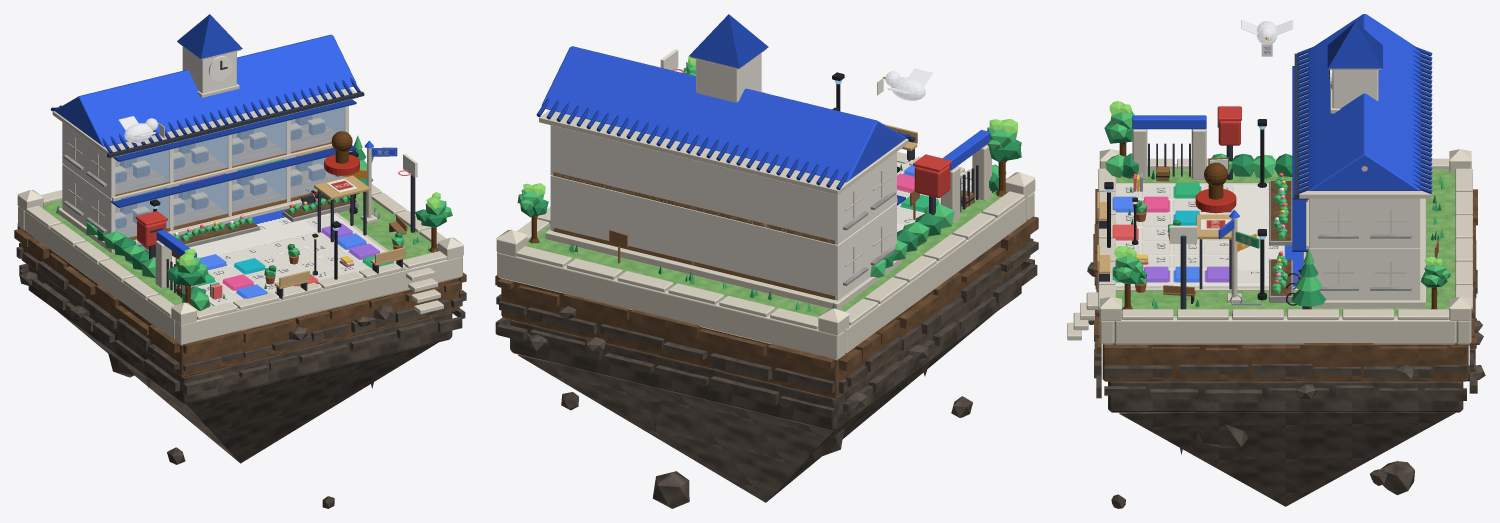
The model's file is hcrs.glb.
The picture shows the model from 3 angles, left to right: view 1: azimuth 30°, elevation 25°; view 2: azimuth 150°, elevation 25°; view 3: azimuth 270°, elevation 25°; orthographic projection. The views are drawn at different scales.
Visible parts, largest first — view 1: school_rock, school_wall_trim, school_roof, school_glass.001, school_soil, school_wall, school_calendar, school_roof_dark, school_chair, school_floor_wood, school_lawn, school_leaf (+8 smaller); view 2: school_rock, school_wall, school_wall_trim, school_roof, school_soil, school_roof_dark, school_lawn, school_floor_wood, school_leaf, school_leaf_dark, pigeon_pigeon, school_post_red (+5 smaller); view 3: school_rock, school_wall_trim, school_roof, school_soil, school_wall, school_calendar, school_roof_dark, school_lawn, school_leaf, school_leaf_dark, school_chair, props_props_palette (+8 smaller).
Boxes of the visible parts, x1,y1,x2,y2 form: school_rock: (16, 242, 466, 508); school_wall_trim: (17, 43, 463, 345); school_roof: (55, 34, 373, 257); school_glass.001: (115, 107, 344, 237); school_soil: (14, 196, 466, 377); school_wall: (62, 46, 417, 233); school_calendar: (137, 202, 404, 307); school_roof_dark: (50, 14, 360, 207); school_chair: (107, 60, 415, 299); school_floor_wood: (115, 116, 336, 239); school_lawn: (42, 192, 437, 305); school_leaf: (86, 135, 452, 310); school_rock: (495, 238, 1038, 508); school_wall: (550, 49, 896, 300); school_wall_trim: (496, 49, 1035, 360); school_roof: (541, 46, 990, 182); school_soil: (495, 216, 1038, 399); school_roof_dark: (536, 14, 910, 205); school_lawn: (527, 191, 1001, 317); school_floor_wood: (553, 172, 834, 299); school_leaf: (517, 62, 1017, 312); school_leaf_dark: (520, 140, 1021, 308); pigeon_pigeon: (885, 68, 932, 100); school_post_red: (914, 165, 950, 197); school_rock: (1087, 234, 1485, 508); school_wall_trim: (1067, 57, 1472, 344); school_roof: (1132, 14, 1420, 289); school_soil: (1094, 181, 1477, 381); school_wall: (1169, 70, 1420, 300); school_calendar: (1105, 184, 1303, 287); school_roof_dark: (1292, 22, 1432, 251); school_lawn: (1116, 167, 1455, 316); school_leaf: (1105, 111, 1450, 309); school_leaf_dark: (1104, 121, 1447, 307); school_chair: (1099, 53, 1329, 309); props_props_palette: (1132, 157, 1441, 305).
Bounding box in the file's own units: 4.28 × 5.76 × 4.5.
Materials: 51 (31 with a texture image).
